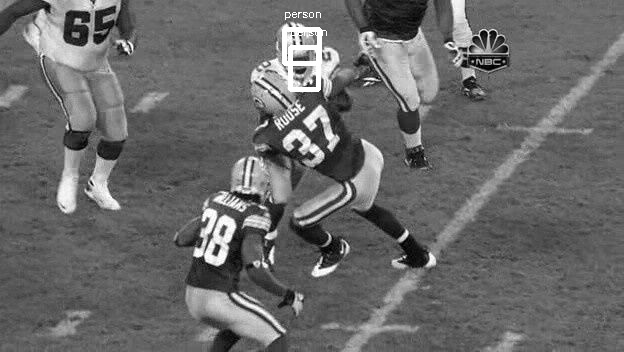person: (280, 34, 317, 82), (279, 34, 316, 82), (281, 34, 318, 82), (280, 33, 317, 81), (280, 35, 317, 83)
target_negative: (170, 262, 527, 334), (84, 330, 364, 351), (121, 159, 318, 184), (595, 76, 607, 310), (94, 260, 115, 314), (485, 158, 533, 166)
